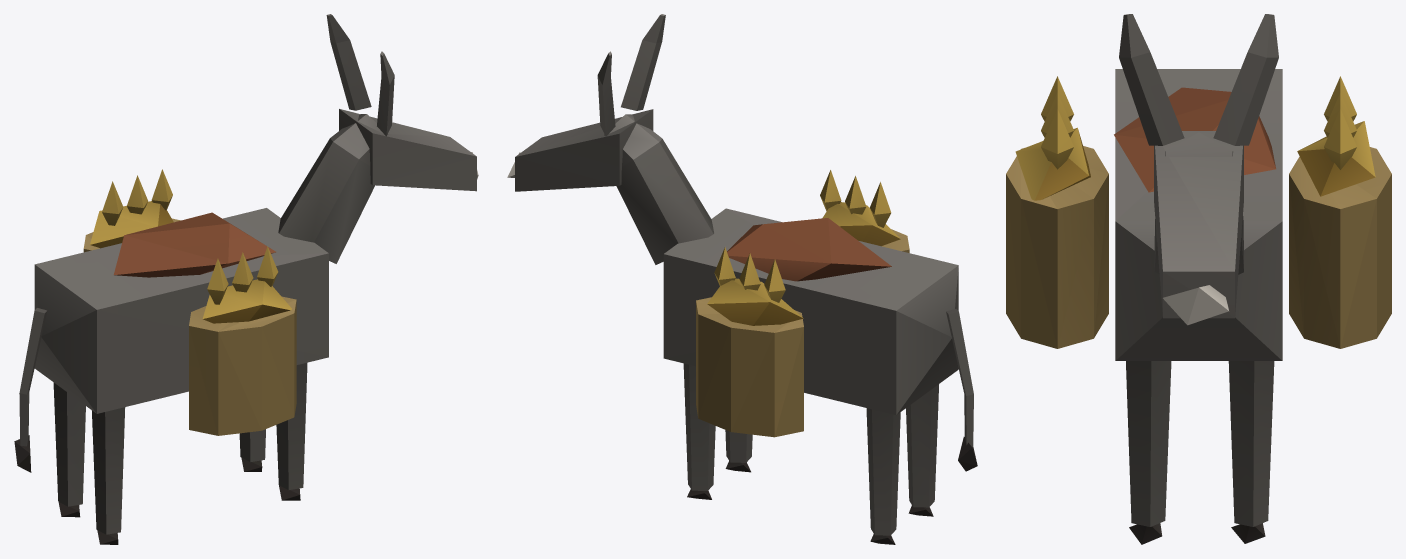
File: donkey.glb
3 views of the same model, side by side, from view 1: azimuth 30°, elevation 25°; view 2: azimuth 150°, elevation 25°; view 3: azimuth 270°, elevation 25° (orthographic). The views are drawn at different scales.
Visible parts, largest first — view 1: base, head_m, leg2_m, leg3_m, leg0_m, tail_m, leg1_m; view 2: base, head_m, leg3_m, leg2_m, leg1_m, tail_m, leg0_m; view 3: base, head_m, leg0_m, leg1_m.
Boxes of the visible parts, <box> form: base: <box>34,169,328,435</box>; head_m: <box>278,14,478,263</box>; leg2_m: <box>92,407,125,544</box>; leg3_m: <box>53,382,85,517</box>; leg0_m: <box>276,363,307,500</box>; tail_m: <box>14,308,47,472</box>; leg1_m: <box>239,429,265,471</box>; base: <box>663,170,958,437</box>; head_m: <box>507,14,713,264</box>; leg3_m: <box>866,408,900,544</box>; leg2_m: <box>906,384,938,516</box>; leg1_m: <box>683,363,715,499</box>; tail_m: <box>946,309,977,471</box>; leg0_m: <box>725,430,752,472</box>; base: <box>1006,69,1391,360</box>; head_m: <box>1119,14,1278,325</box>; leg0_m: <box>1126,361,1171,544</box>; leg1_m: <box>1228,361,1274,543</box>.
Size of the model in its own units: 0.5515 by 0.4995 by 0.3.
